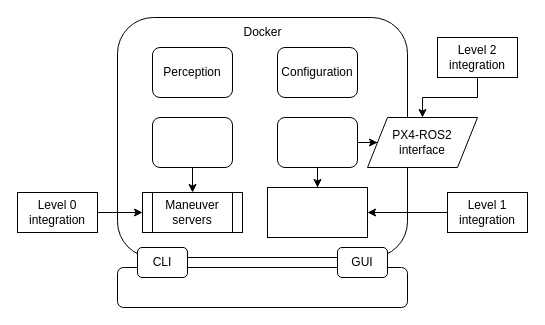
This 545x325 diagram has some shape labels left out. The shapes that lost their labels are listed below. From the top down, each one's centre as x and y in pixels, then its label:
At (192,142): "Control".
At (317,142): "Mission".
At (317,212): "Mission specification files".
At (262,287): "Ground control".
